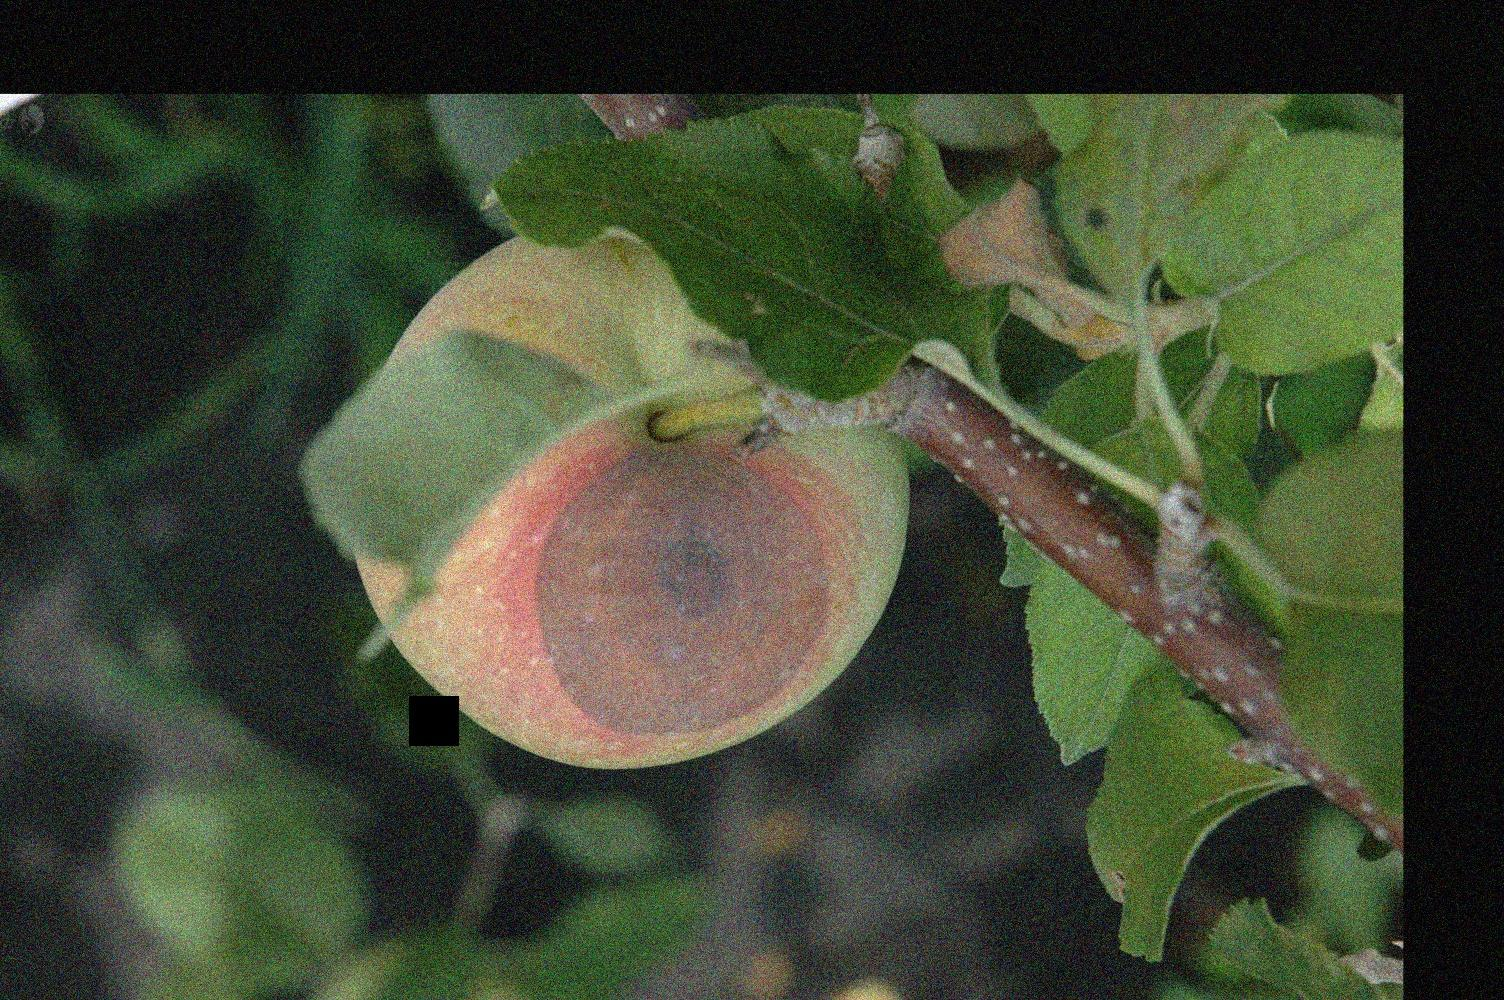rotten apple: (336, 227, 907, 769)
